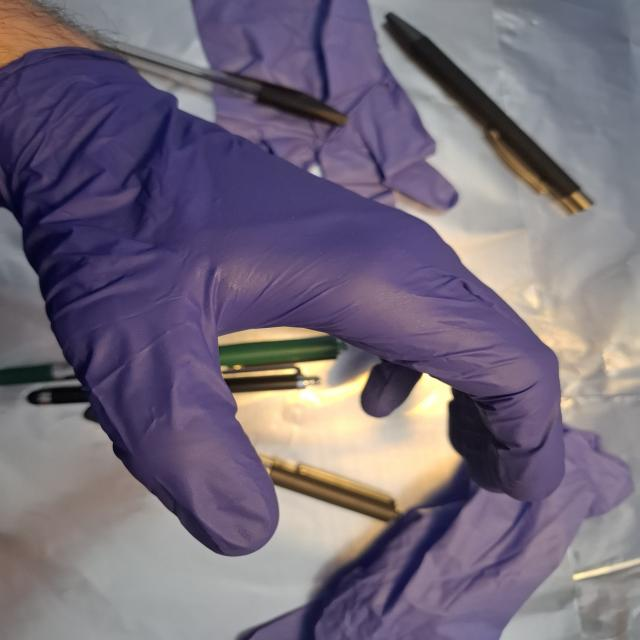glove_on: (0, 41, 573, 561)
